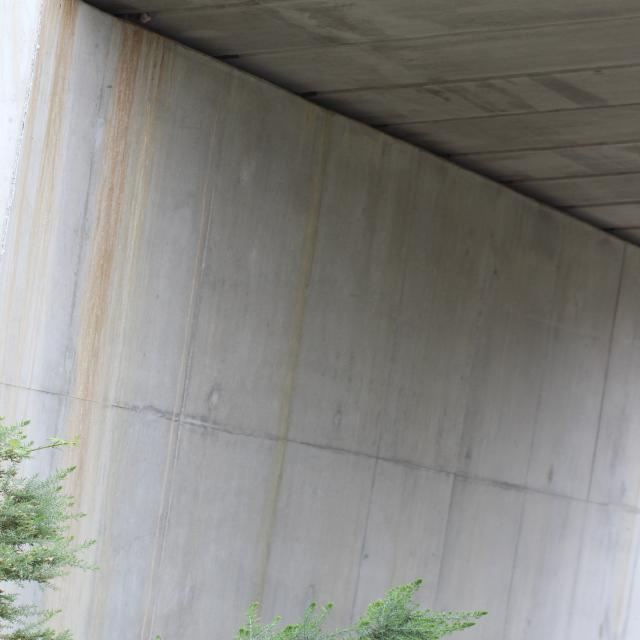corrosion: (10, 1, 379, 640)
